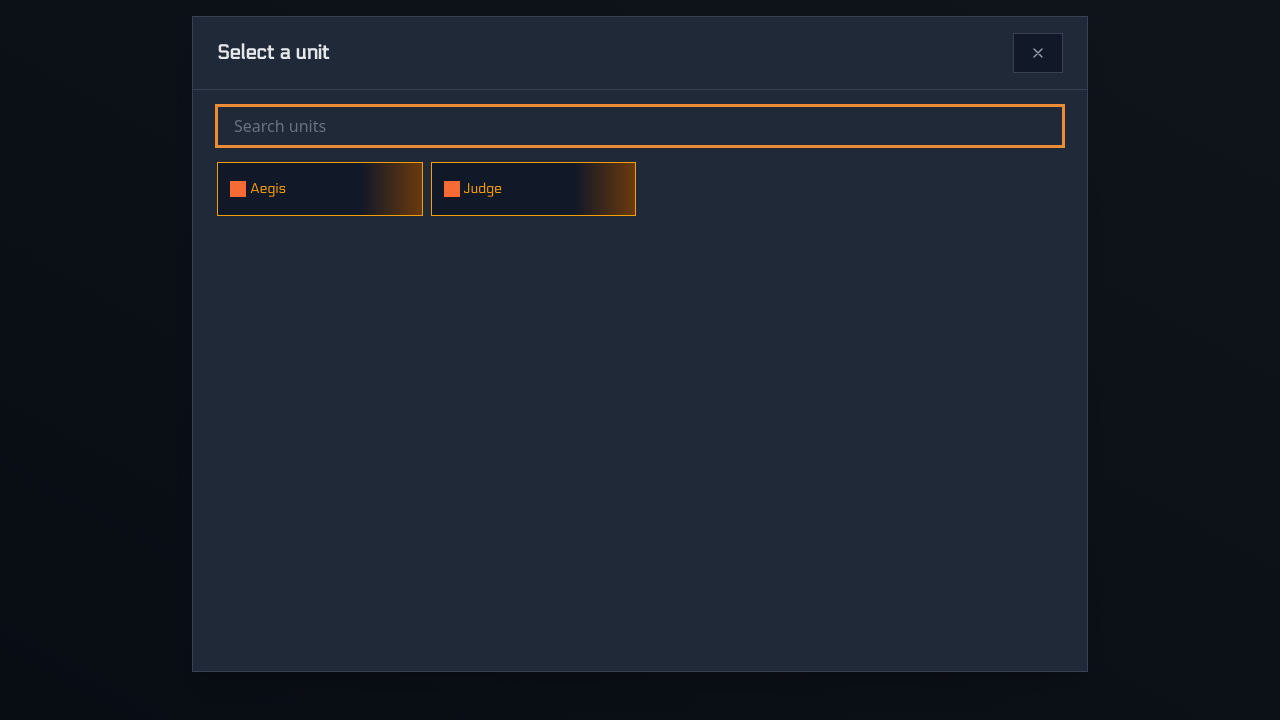
Scenario: UnitVersionSelector › offers an R0 reference for a unit nobody owns
Click the button "Aegis": (320, 189) [217,162,422,216]
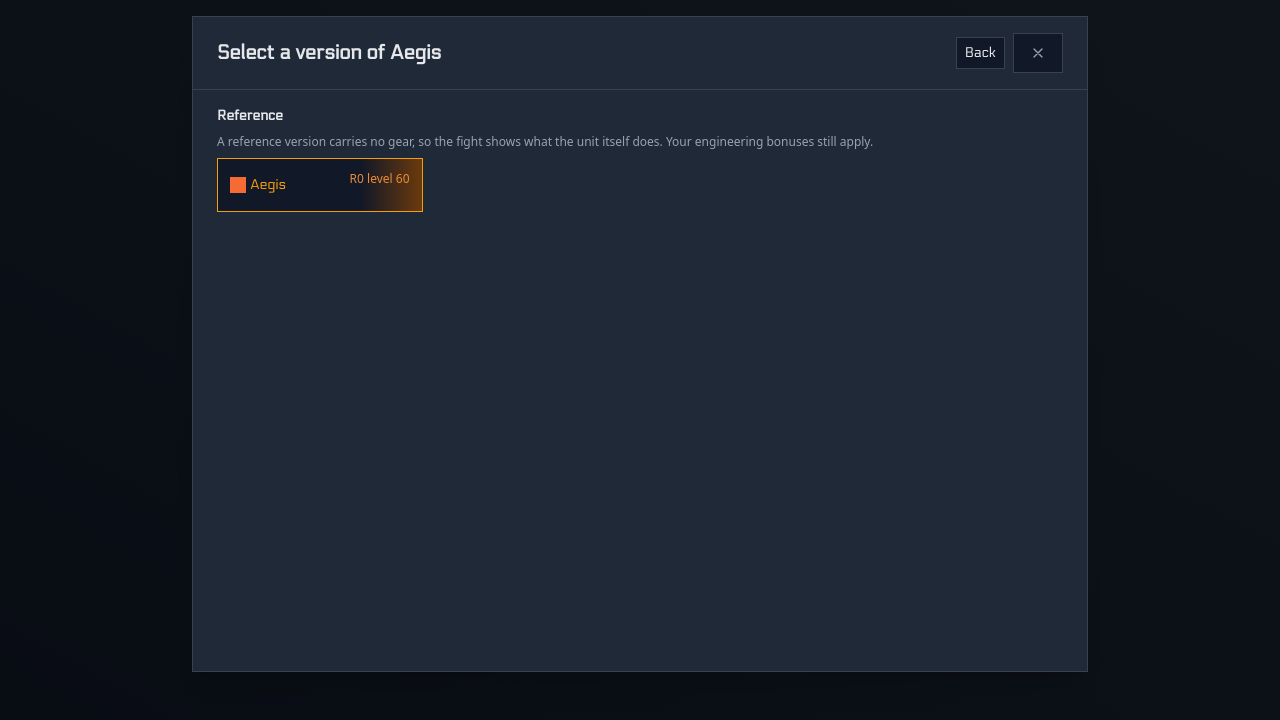
Check: the heading "Reference" is shown, box [217,107,283,124]
